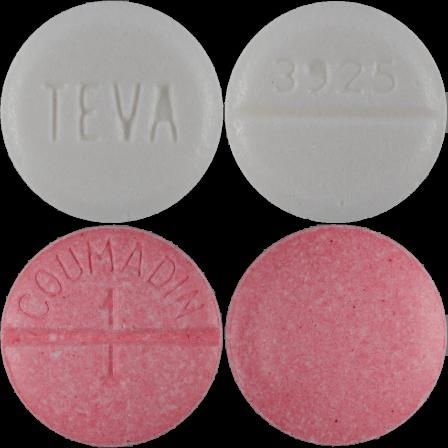54868-2126: (0, 0, 224, 224)
